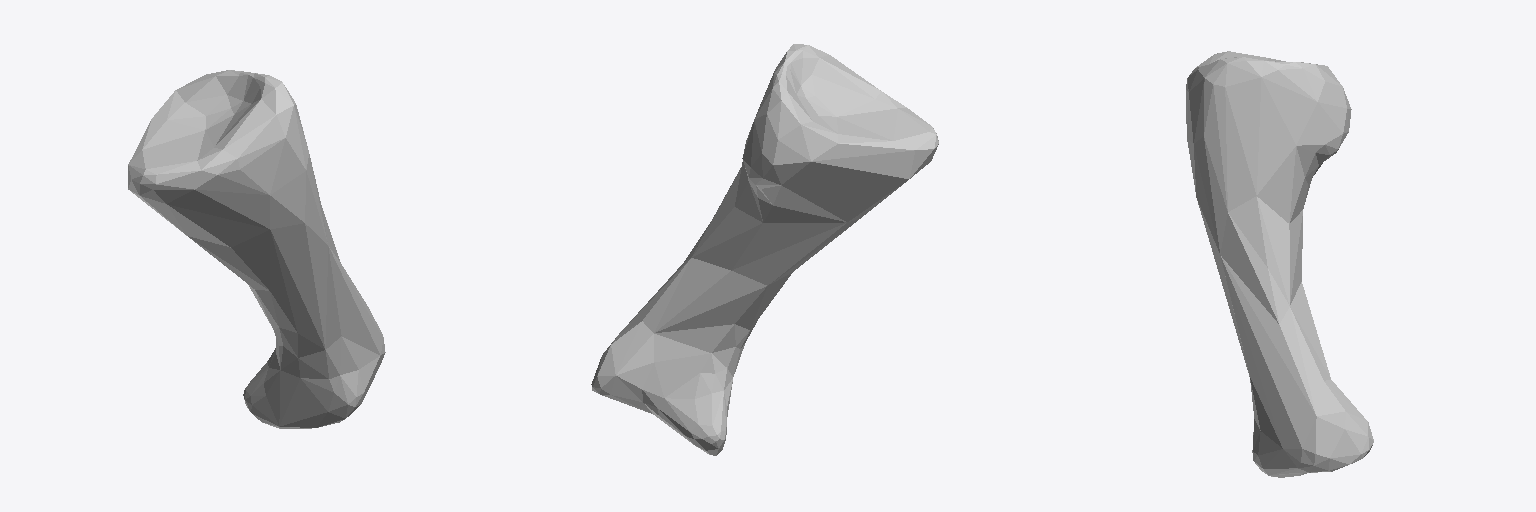
File: proximal phalanx of left second toe.obj
3 renders of one model, left to right at view 1: azimuth 30°, elevation 25°; view 2: azimuth 150°, elevation 25°; view 3: azimuth 270°, elevation 25°, orthographic.
Visible parts, largest first — view 1: grp1; view 2: grp1; view 3: grp1.
Part boxes in pixels (left/top/right/bottom): grp1: left=128, top=70, right=385, bottom=428; grp1: left=591, top=44, right=938, bottom=455; grp1: left=1186, top=51, right=1373, bottom=477.
Bounding box in the file's own units: 22.04 × 28.14 × 12.37.